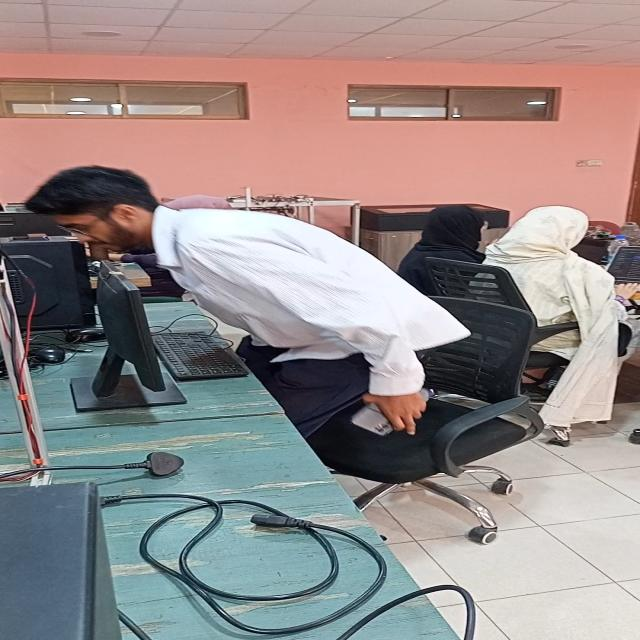dress: (164, 191, 477, 428)
